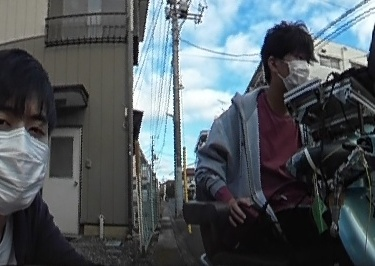person: (194, 15, 326, 265)
